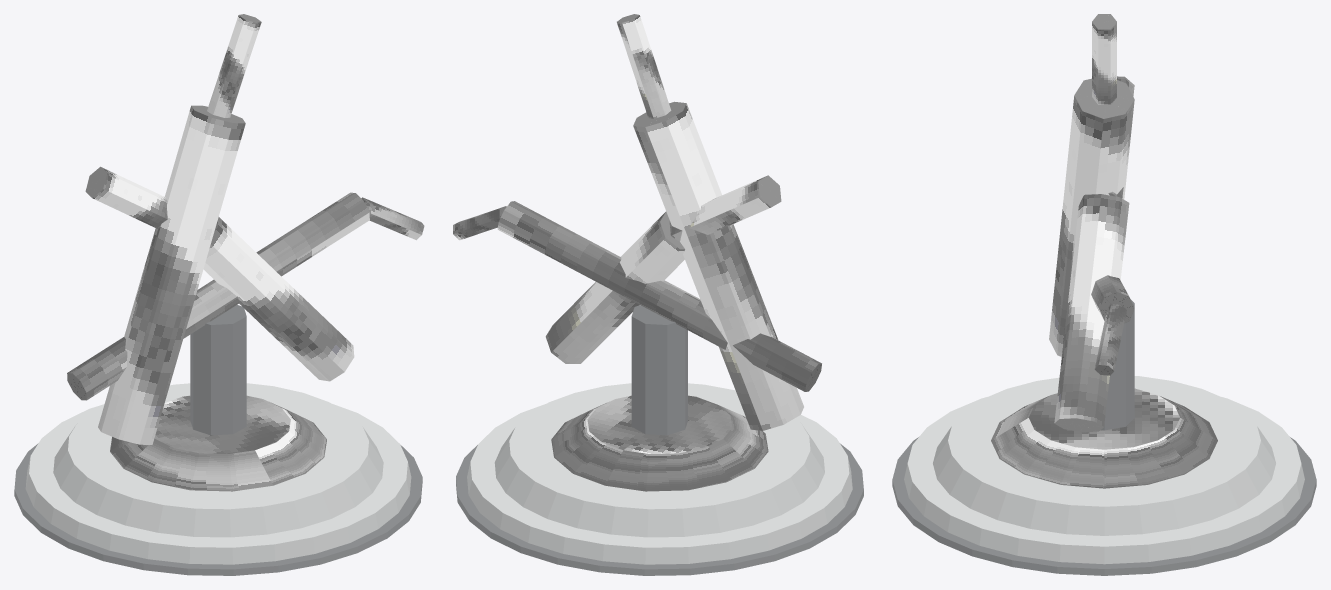
Rendered from Building_SculptureLarge.glb.
3 views of the same model, side by side, from view 1: azimuth 30°, elevation 25°; view 2: azimuth 150°, elevation 25°; view 3: azimuth 270°, elevation 25° (orthographic). The views are drawn at different scales.
Parts seen in each view (by area): view 1: SculptureLarge; view 2: SculptureLarge; view 3: SculptureLarge.
Part boxes in pixels (<box>): SculptureLarge: <box>14,14,424,575</box>; SculptureLarge: <box>453,14,863,575</box>; SculptureLarge: <box>892,14,1316,575</box>.
Bounding box in the file's own units: 1.81 × 2.12 × 1.68.
1 material, 1 textured.
